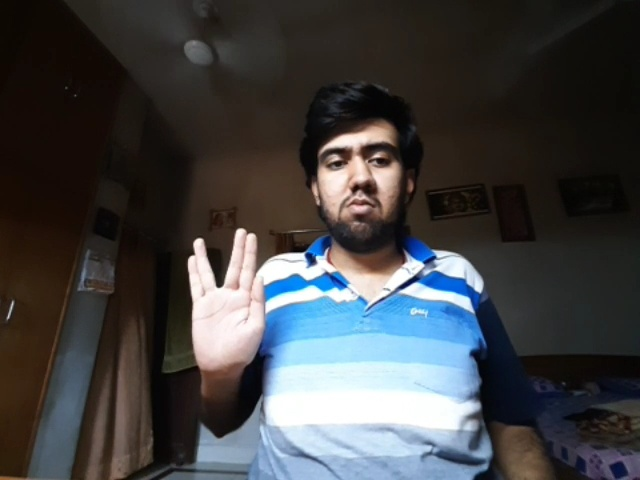LiveLong: (187, 227, 265, 371)
